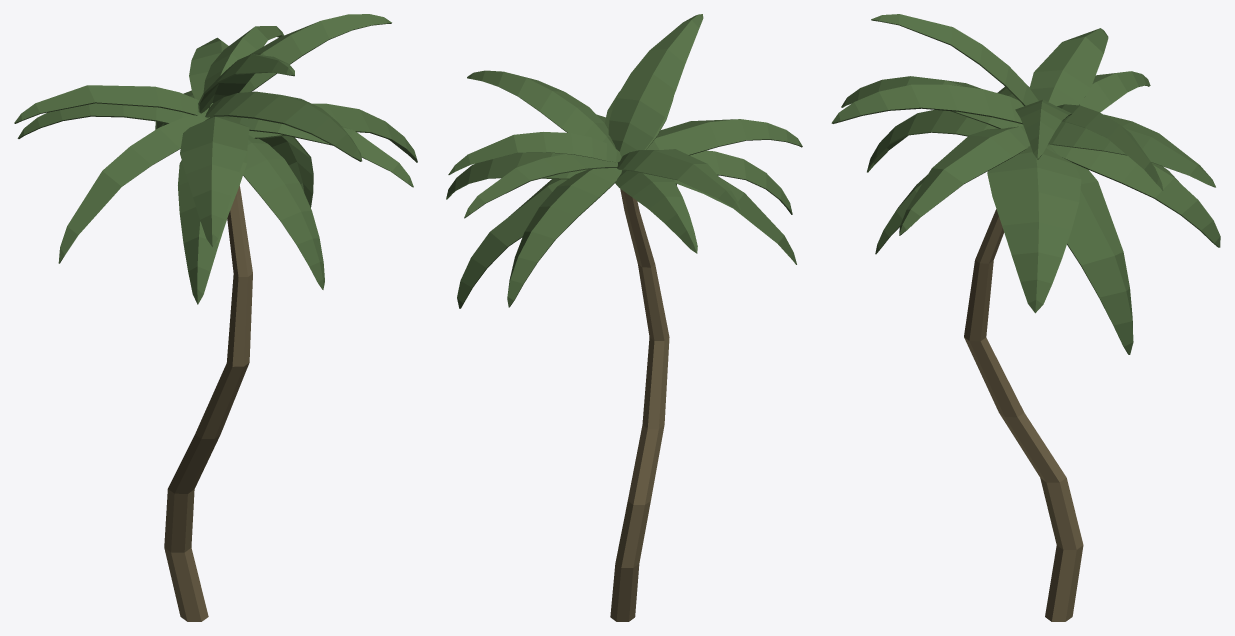
Rendered from PalmTree_1.glb.
The picture shows the model from 3 angles, left to right: view 1: azimuth 30°, elevation 25°; view 2: azimuth 150°, elevation 25°; view 3: azimuth 270°, elevation 25°; orthographic projection. The views are drawn at different scales.
Parts seen in each view (by area): view 1: PalmTree_1; view 2: PalmTree_1; view 3: PalmTree_1.
Part boxes in pixels (x1,y1,x2,y2): PalmTree_1: (14, 14, 417, 621); PalmTree_1: (446, 14, 802, 621); PalmTree_1: (831, 14, 1220, 621).
Bounding box in the file's own units: 2.88 × 4.47 × 2.61.
